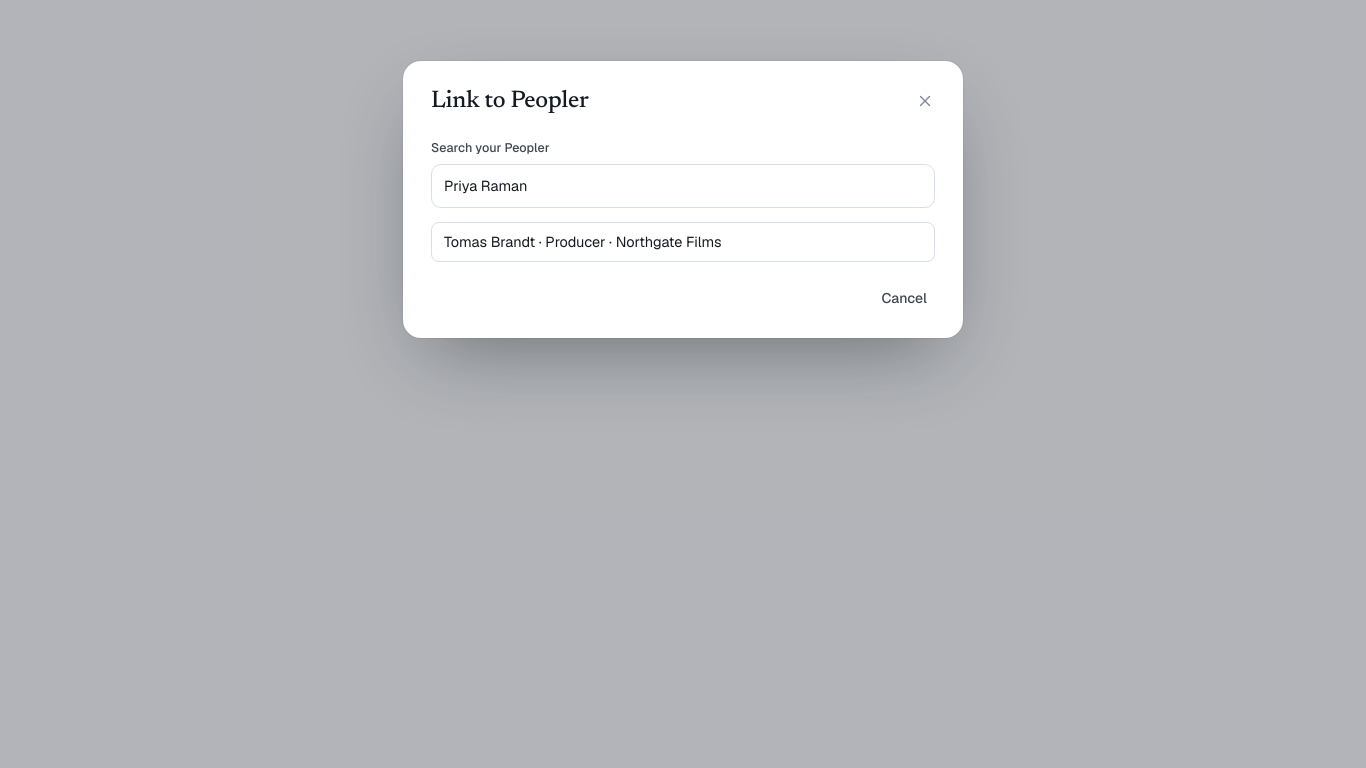
LinkPeoplerDialog › PEOPLER_NAME_MISMATCH shows its sentence, stays open
The width and height of the screenshot is (1366, 768).
Click the button "Tomas Brandt · Producer · Northgate Films" at (683, 242), box [431,222,935,262]
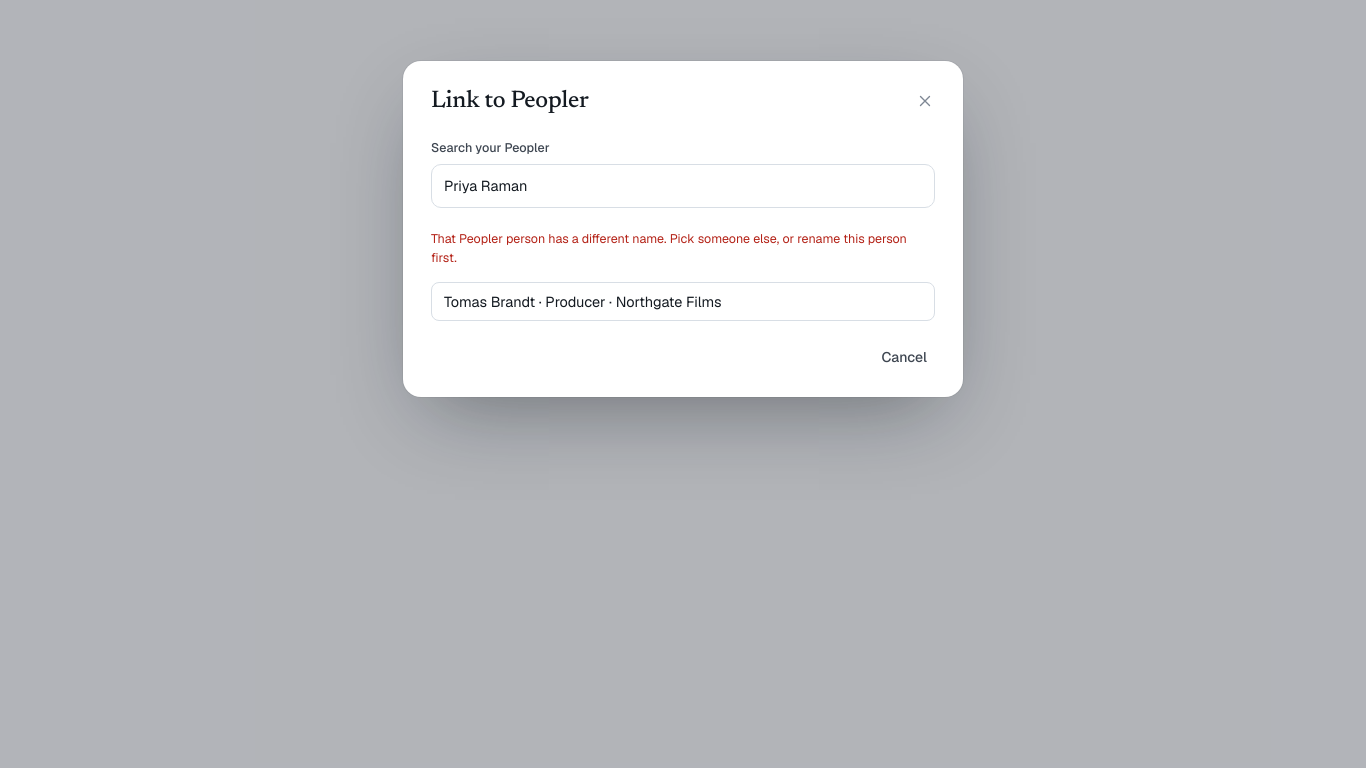
expect the field labelled "Search your Peopler" is shown: met, box [431,164,935,208]
expect the message shows "That Peopler person has a different name. Pick someone else, or rename this person first.": met, box [431,230,907,266]
